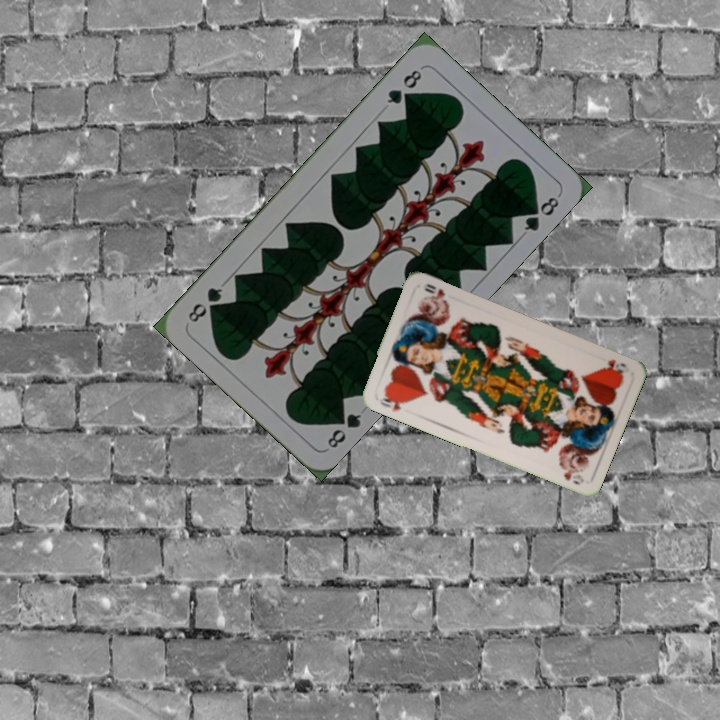G8: (323, 404, 364, 451), (382, 65, 425, 107)
HO: (375, 390, 410, 415), (599, 355, 629, 378)
